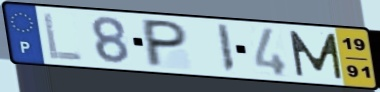4: (252, 26, 290, 78)
8: (89, 15, 132, 66)
I: (214, 22, 237, 75)
L: (40, 11, 85, 62)
M: (286, 29, 346, 81)
P: (143, 17, 190, 69)
